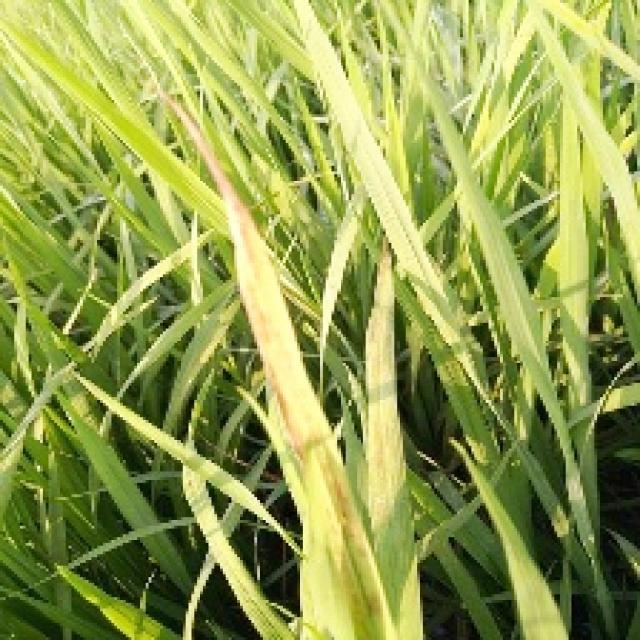health: (0, 0, 154, 334)
